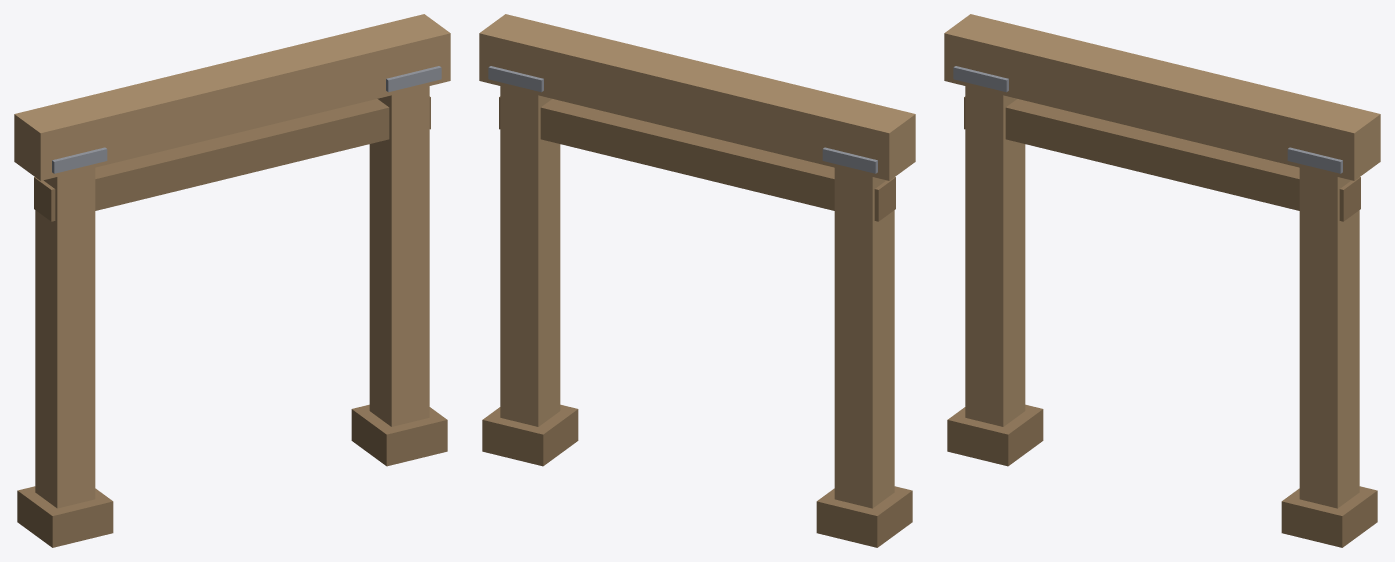
The model's file is mine_support_frame.glb.
3 views of the same model, side by side, from view 1: azimuth 30°, elevation 25°; view 2: azimuth 150°, elevation 25°; view 3: azimuth 330°, elevation 25° (orthographic).
Visible parts, largest first — view 1: Lintel, Post_-2.2, Post_2.2, Brace, Base_2.2, Base_-2.2, Plate_2.2, Plate_-2.2; view 2: Lintel, Post_-2.2, Post_2.2, Brace, Base_2.2, Base_-2.2, Plate_2.2, Plate_-2.2; view 3: Lintel, Post_2.2, Post_-2.2, Brace, Base_2.2, Base_-2.2, Plate_2.2, Plate_-2.2.
Part boxes in pixels (x1=…): Lintel: x1=14, y1=14, x2=450, y2=180; Post_-2.2: x1=35, y1=168, x2=95, y2=508; Post_2.2: x1=369, y1=86, x2=429, y2=426; Brace: x1=34, y1=96, x2=430, y2=221; Base_2.2: x1=351, y1=404, x2=447, y2=466; Base_-2.2: x1=17, y1=486, x2=113, y2=547; Plate_2.2: x1=386, y1=66, x2=441, y2=92; Plate_-2.2: x1=52, y1=147, x2=107, y2=173; Lintel: x1=479, y1=14, x2=915, y2=180; Post_-2.2: x1=834, y1=168, x2=894, y2=508; Post_2.2: x1=500, y1=86, x2=560, y2=426; Brace: x1=499, y1=96, x2=895, y2=221; Base_2.2: x1=482, y1=404, x2=578, y2=466; Base_-2.2: x1=816, y1=486, x2=912, y2=547; Plate_2.2: x1=488, y1=66, x2=543, y2=92; Plate_-2.2: x1=822, y1=147, x2=877, y2=173; Lintel: x1=944, y1=14, x2=1380, y2=180; Post_2.2: x1=1299, y1=168, x2=1359, y2=508; Post_-2.2: x1=965, y1=86, x2=1025, y2=426; Brace: x1=964, y1=96, x2=1360, y2=221; Base_2.2: x1=1281, y1=486, x2=1377, y2=547; Base_-2.2: x1=947, y1=404, x2=1043, y2=466; Plate_2.2: x1=1287, y1=147, x2=1342, y2=173; Plate_-2.2: x1=953, y1=66, x2=1008, y2=92.
Size of the model in its own units: 5.4 by 5.2 by 0.8.
